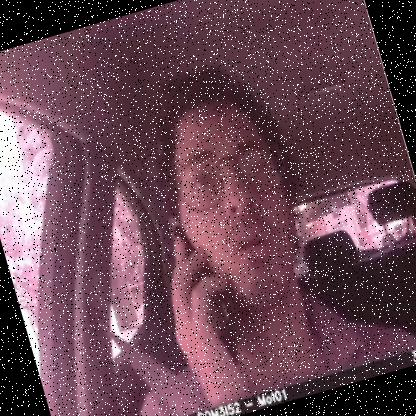phone: (154, 207, 254, 379)
